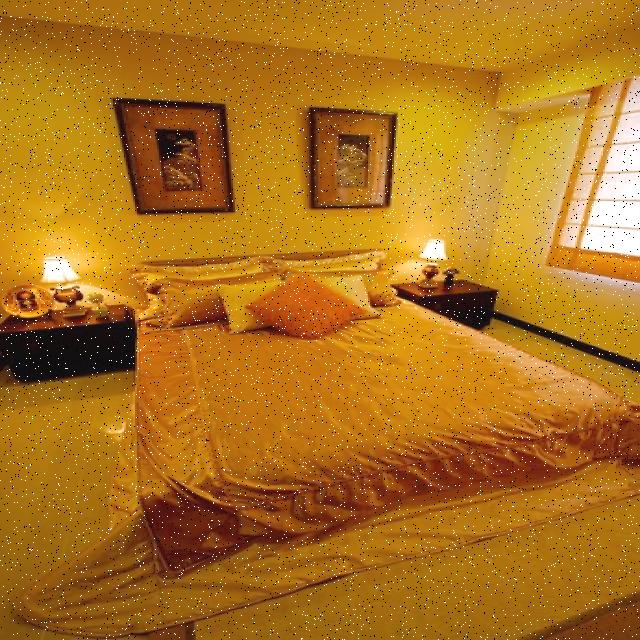bed: (127, 249, 631, 580)
